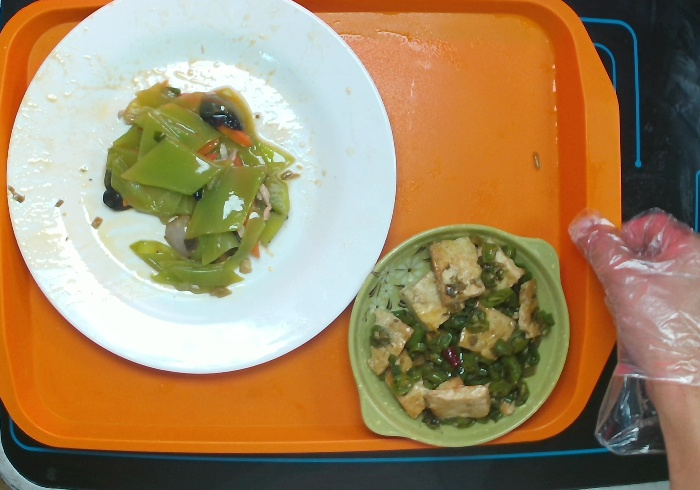NLDX-Da_Yuan_Pan: (8, 1, 395, 375)
NLDX-Lv_Hua_Shuang_Er_Die: (348, 224, 571, 447)
